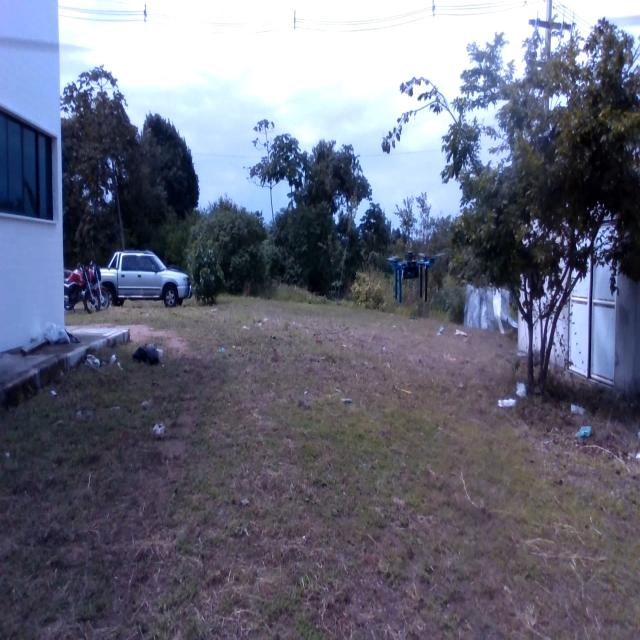-uav-: (379, 232, 445, 316)
